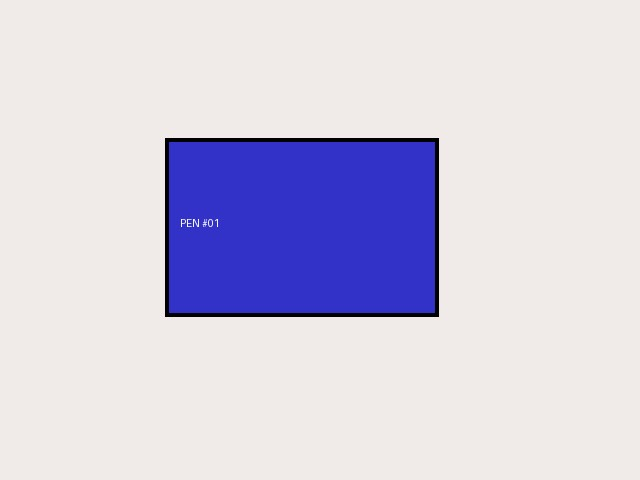pen: (165, 138, 438, 316)
